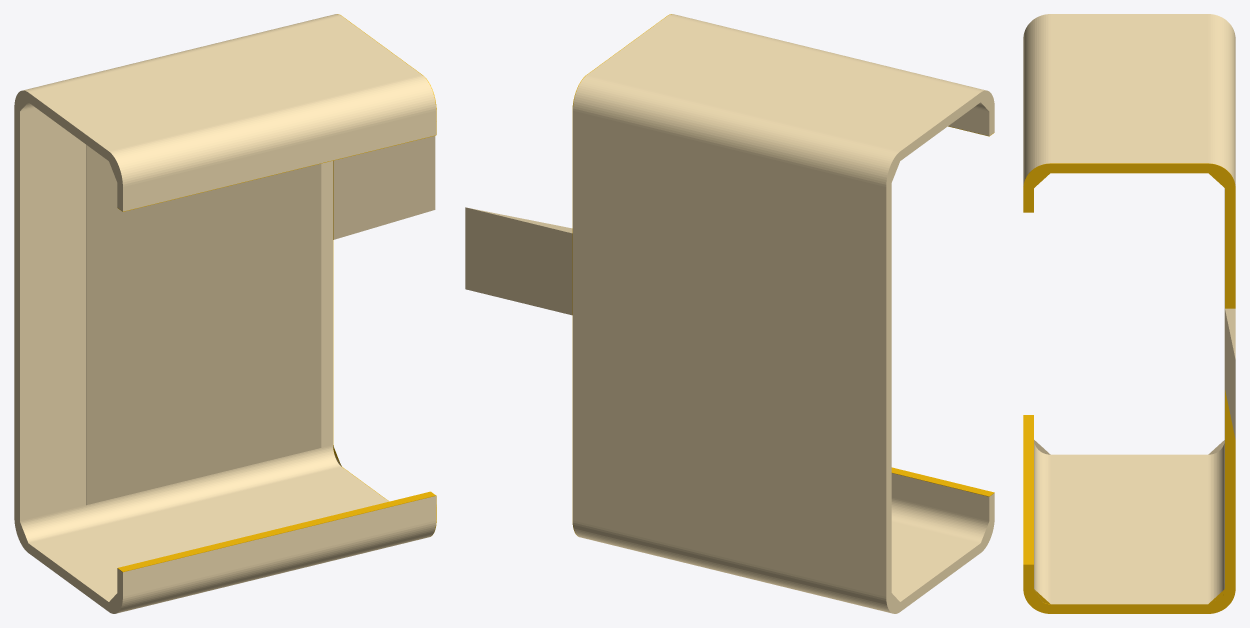
Rendered from _coe-demospace-bodyset2.glb.
The picture shows the model from 3 angles, left to right: view 1: azimuth 30°, elevation 25°; view 2: azimuth 150°, elevation 25°; view 3: azimuth 270°, elevation 25°; orthographic projection. The views are drawn at different scales.
Bounding box in the file's own units: 5.38 × 5.62 × 2.4.
